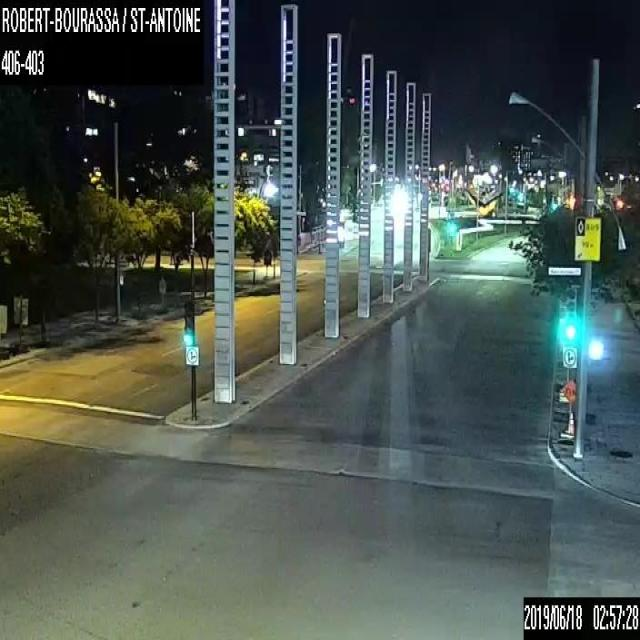construction: (11, 293, 29, 351), (560, 379, 575, 438), (0, 303, 9, 358), (566, 410, 574, 435)
